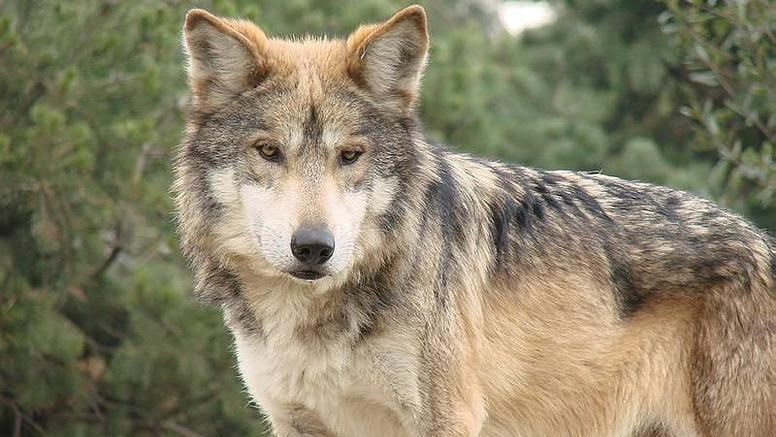Lobo: (139, 4, 736, 408)
